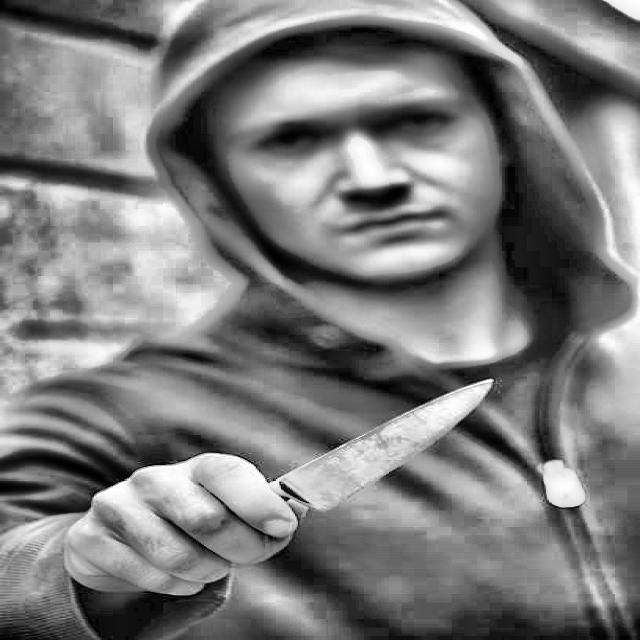pisau: (27, 378, 501, 618)
